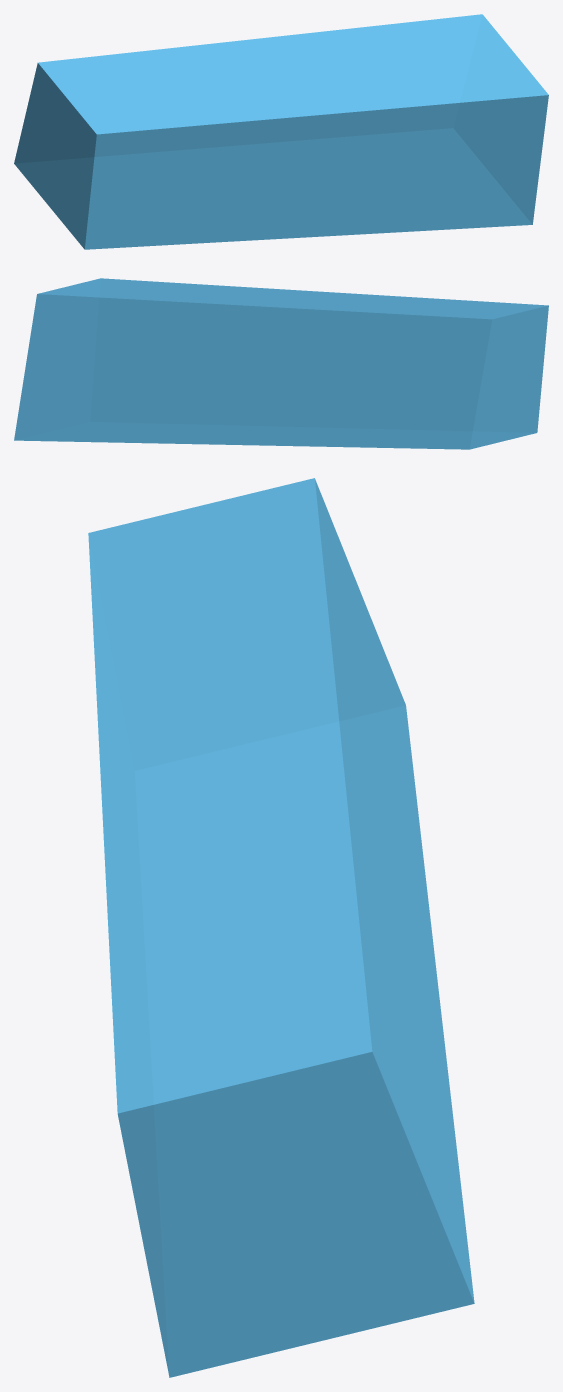
File: Event_421556567_HErechit_33.fbx
3 renders of one model, top to bottom at view 1: azimuth 30°, elevation 25°; view 2: azimuth 150°, elevation 25°; view 3: azimuth 270°, elevation 25°, orthographic. The views are drawn at different scales.
Visible parts, largest first — view 1: Model; view 2: Model; view 3: Model.
Boxes of the visible parts, x1,y1,x2,y2 form: Model: (14,14,548,249); Model: (14,278,548,449); Model: (88,478,474,1377).
Size of the model in its own units: 1.27 by 0.651 by 0.4828.
